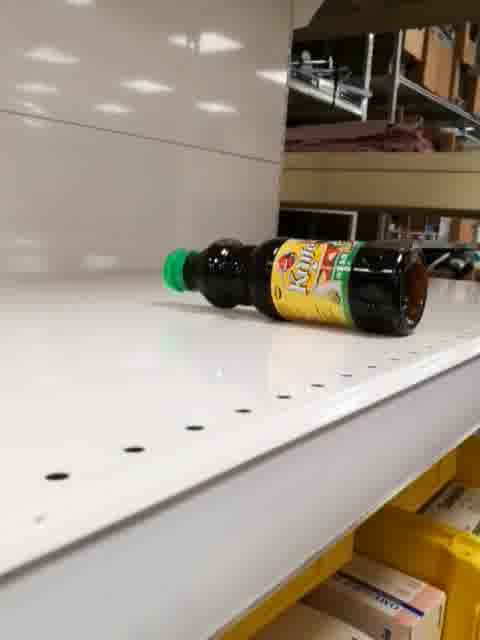cookingoil: (161, 233, 431, 341)
